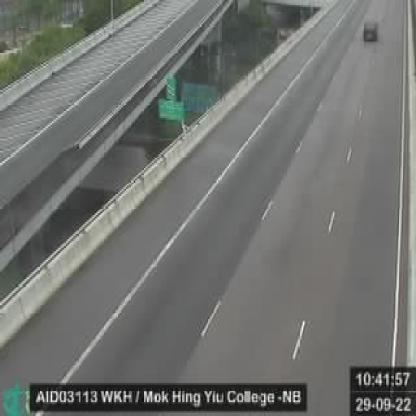Car: (358, 10, 384, 45)
